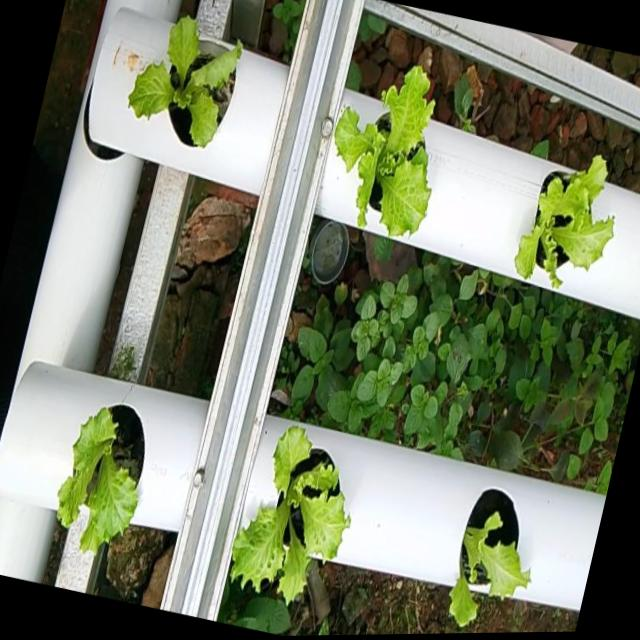Baby: (225, 428, 346, 608), (329, 68, 429, 239), (123, 19, 237, 151), (509, 155, 608, 288), (54, 407, 140, 555), (446, 486, 527, 624)
